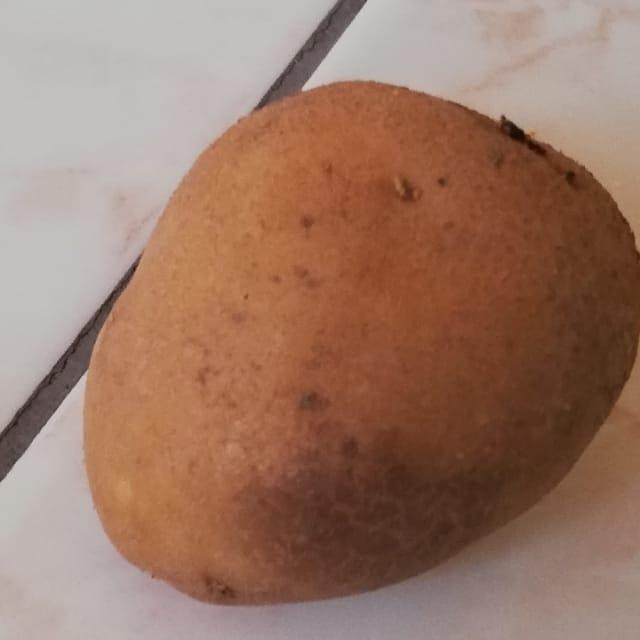potato: (55, 46, 640, 629)
